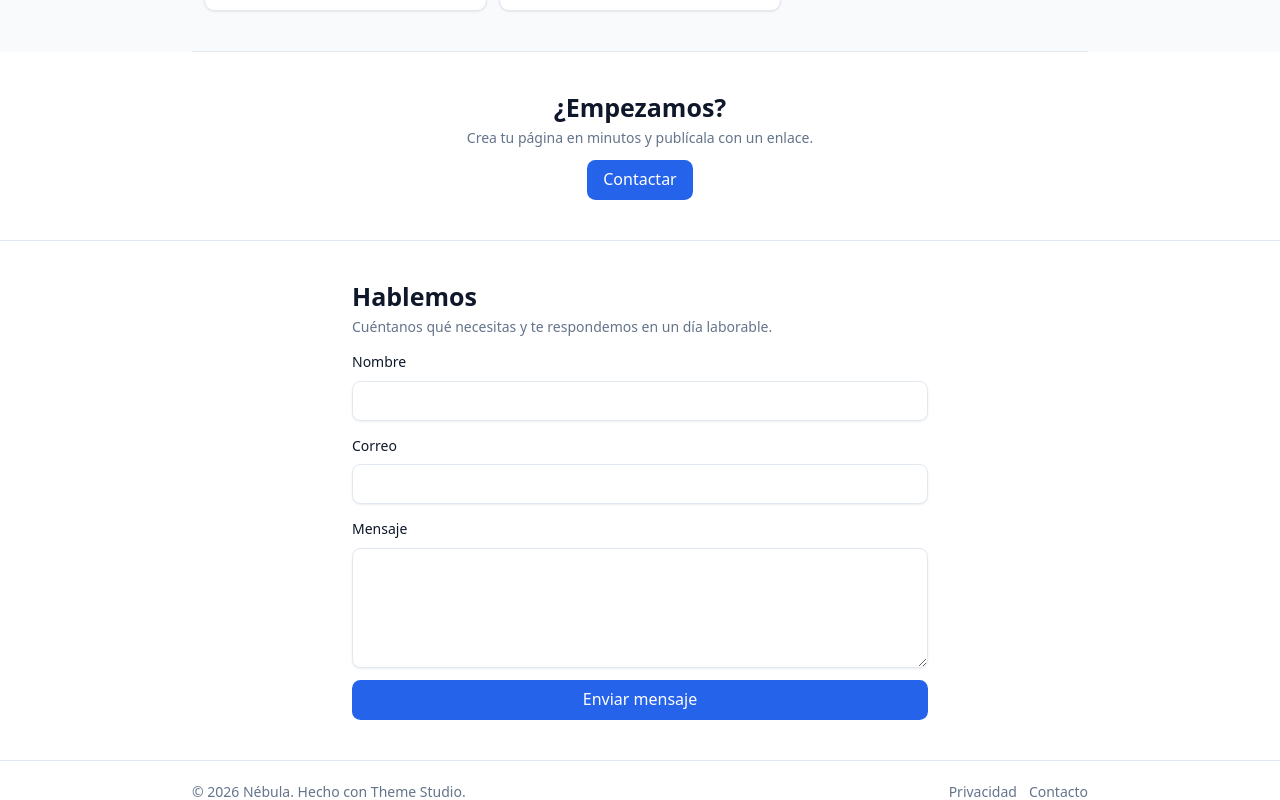
it: bloque form en una página pública › muestra el error sin perder los valores escritos
(page scrolled)
Step 1. Type "Ana" into the field labelled "Nombre" → x=640, y=401, box [352,381,928,421]
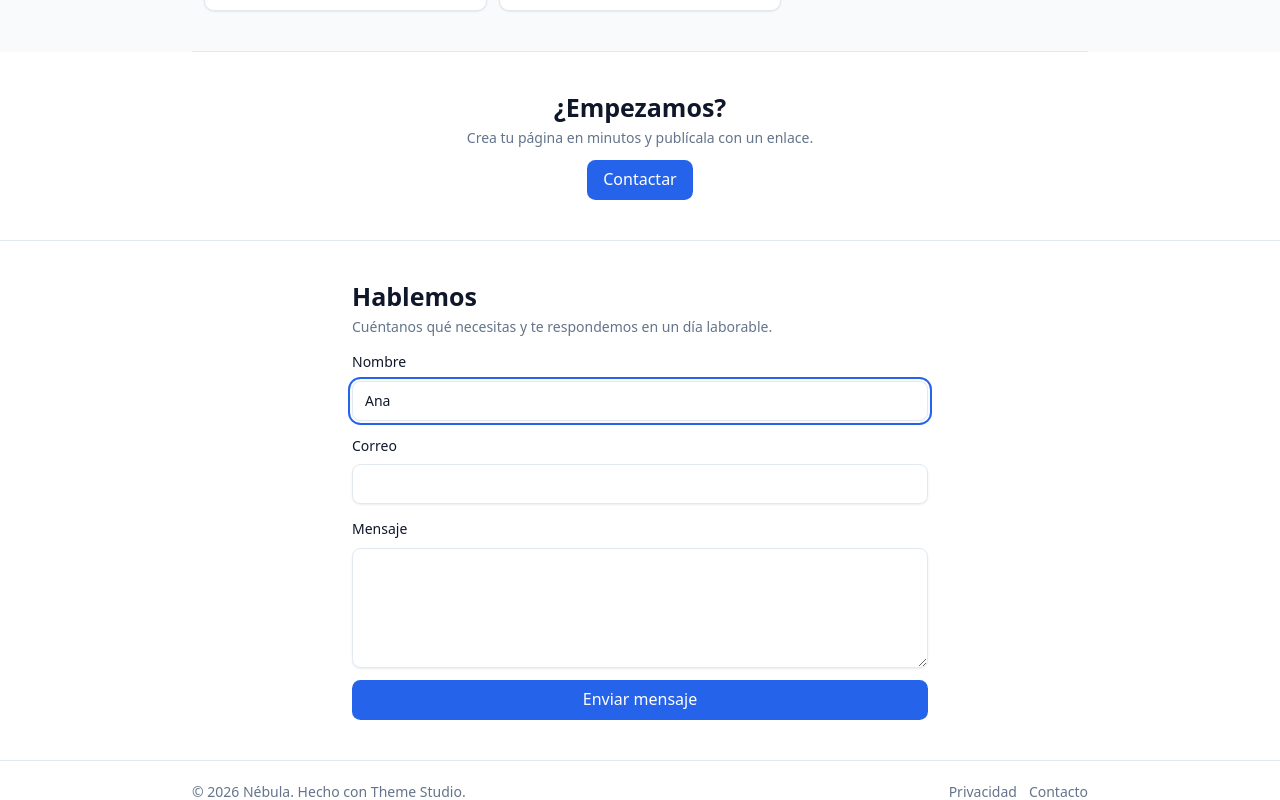
Step 2. Type "ana@example.com" into the field labelled "Correo" → x=640, y=484, box [352,464,928,504]
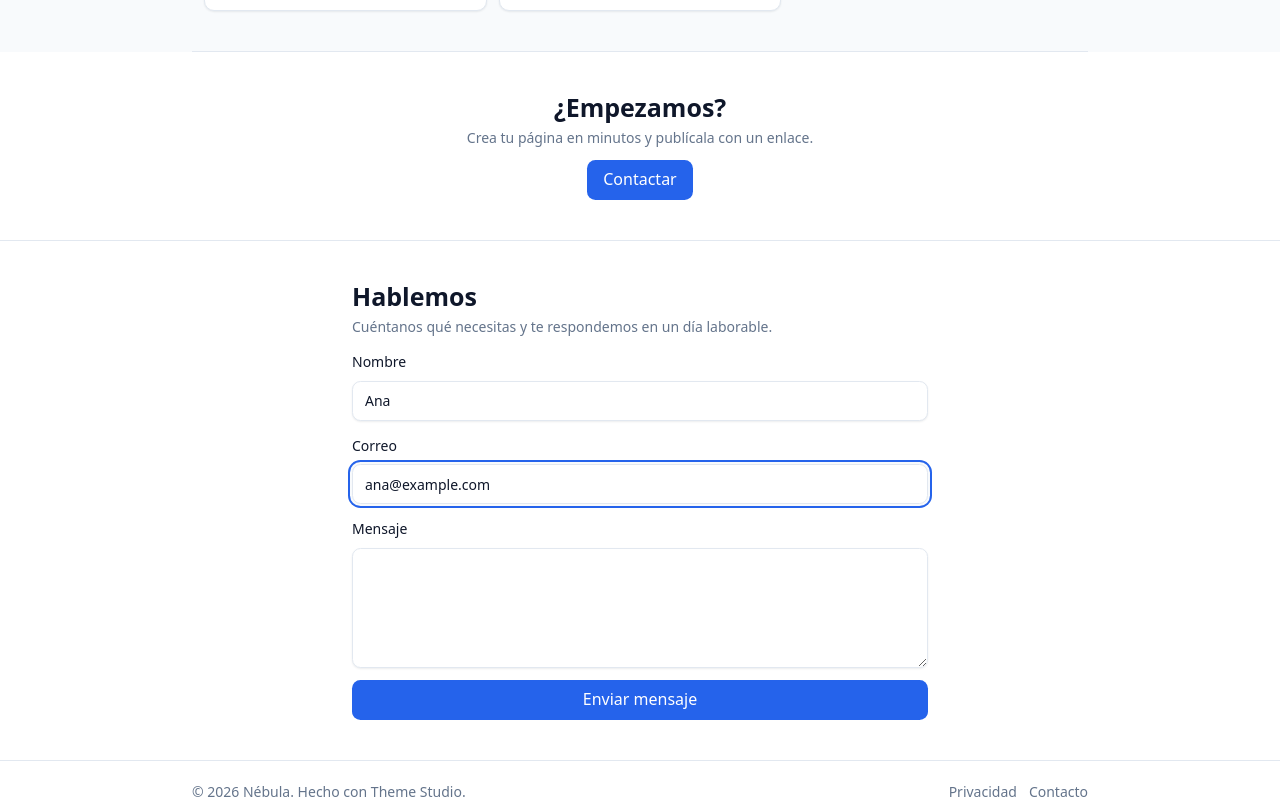
Step 3. Click the button "Enviar mensaje" → x=640, y=700, box [352,680,928,720]
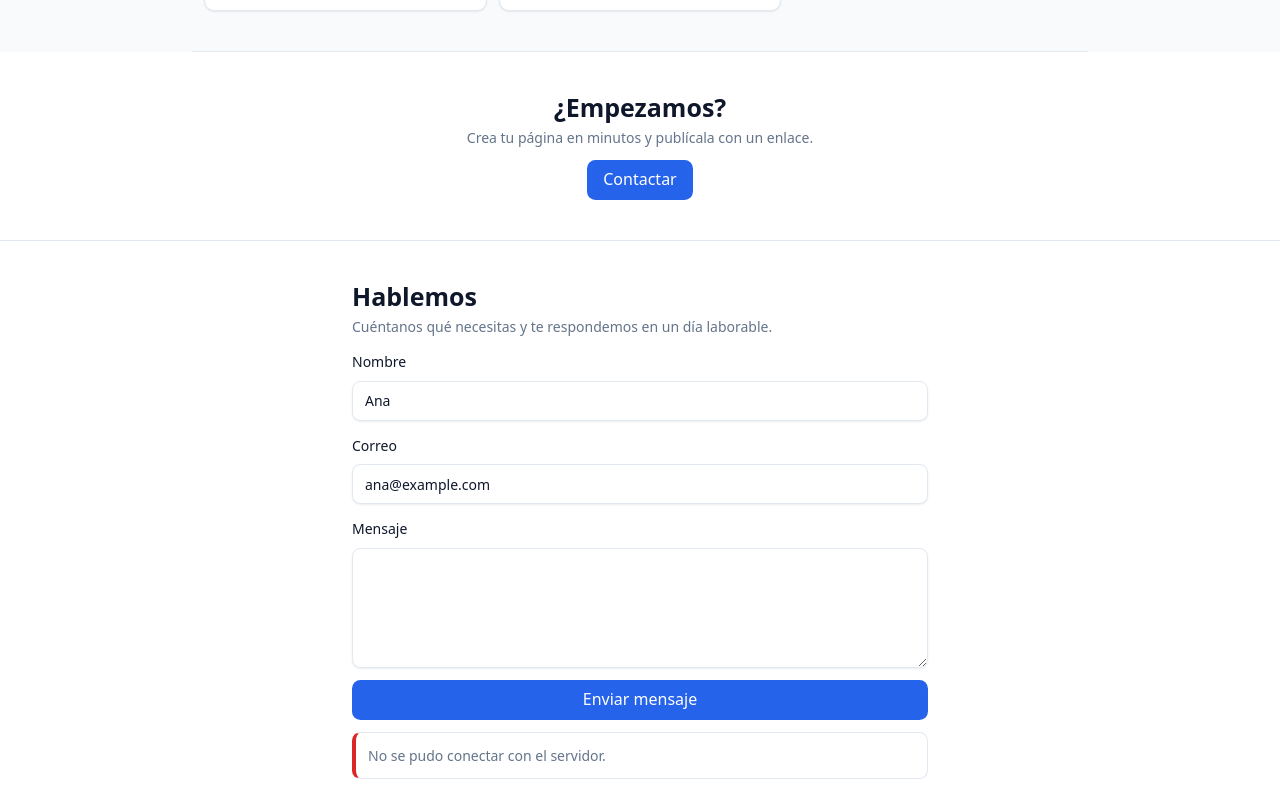
Check: the text "No se pudo conectar con el servidor." is shown, box [368,745,606,766]
